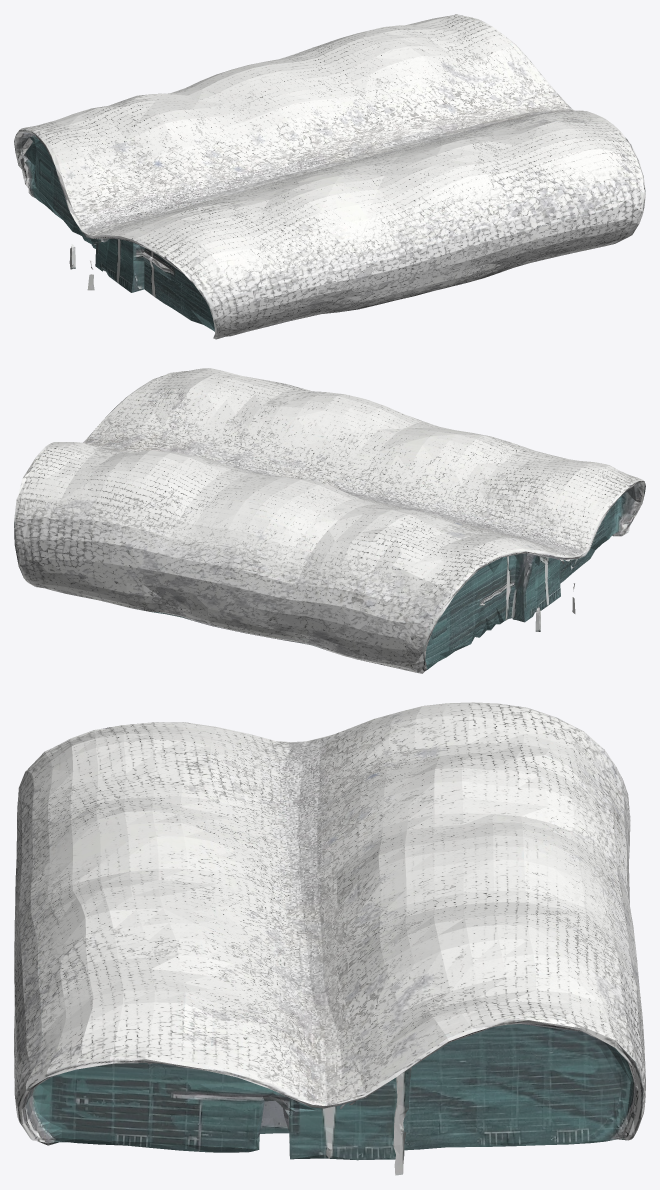
Rendered from tripo_convert_4e9f0594-5cb9-4b12-986c-0a81154a03fa.obj.
The picture shows the model from 3 angles, top to bottom: view 1: azimuth 30°, elevation 25°; view 2: azimuth 150°, elevation 25°; view 3: azimuth 270°, elevation 25°; orthographic projection. The views are drawn at different scales.
Visible parts, largest first — view 1: tripo_node_4e9f0594-5cb9-4b12-986c-0a81154a03fa; view 2: tripo_node_4e9f0594-5cb9-4b12-986c-0a81154a03fa; view 3: tripo_node_4e9f0594-5cb9-4b12-986c-0a81154a03fa.
Boxes of the visible parts, left/top/right/bottom form: tripo_node_4e9f0594-5cb9-4b12-986c-0a81154a03fa: left=14, top=14, right=645, bottom=339; tripo_node_4e9f0594-5cb9-4b12-986c-0a81154a03fa: left=14, top=368, right=645, bottom=673; tripo_node_4e9f0594-5cb9-4b12-986c-0a81154a03fa: left=14, top=702, right=645, bottom=1175.
Bounding box in the file's own units: 0.973 × 0.2108 × 0.7283.
Materials: 1 (1 with a texture image).
